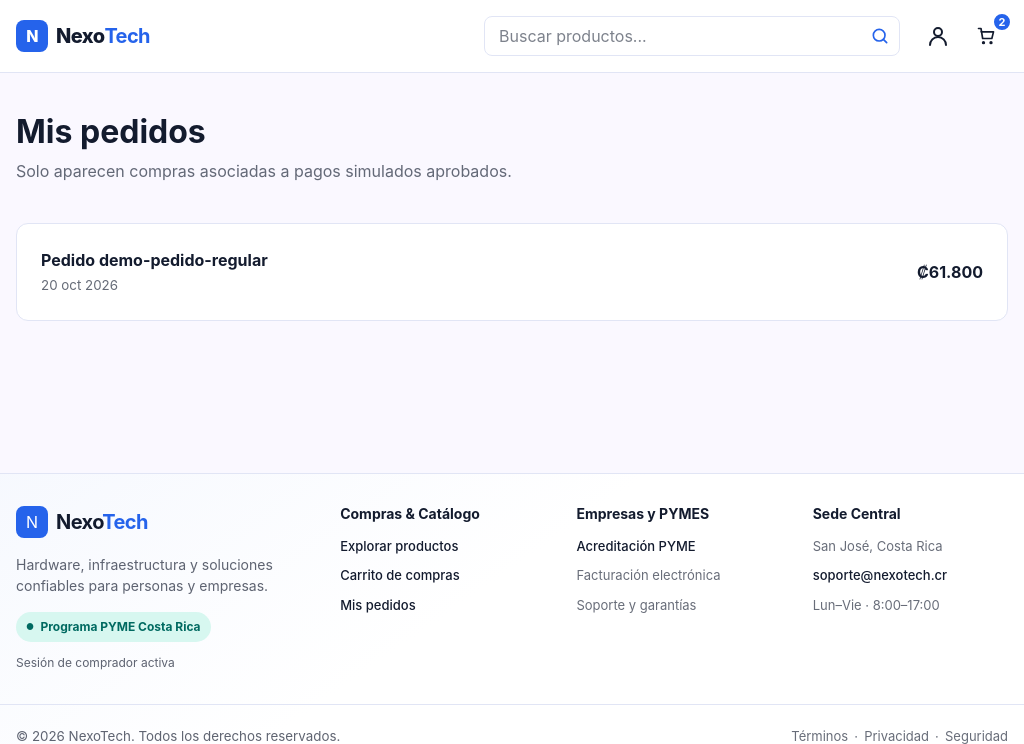
Test: MyOrdersPage › muestra solo el pedido confirmado del usuario y su pago aprobado
Click the text "Pedido demo-pedido-regular" at [154, 260], box [41, 248, 268, 272]
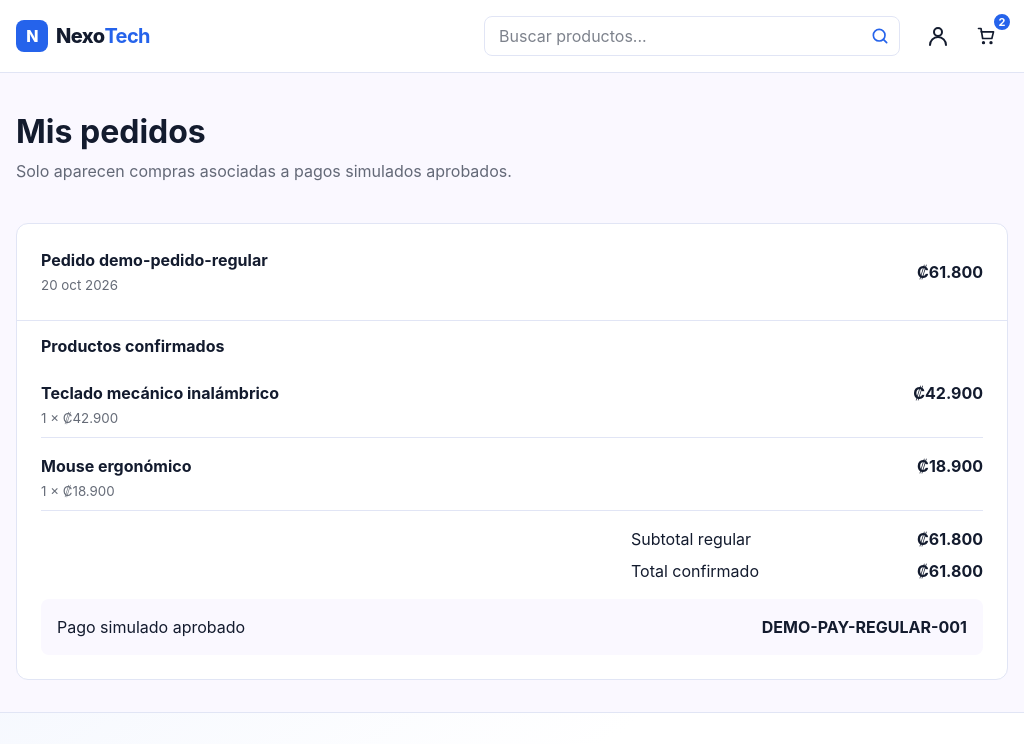
expect the text "DEMO-PAY-REGULAR-001" is shown: met, box [762, 614, 967, 638]
expect the text "1 × ₡42.900" is shown: met, box [41, 410, 118, 426]
